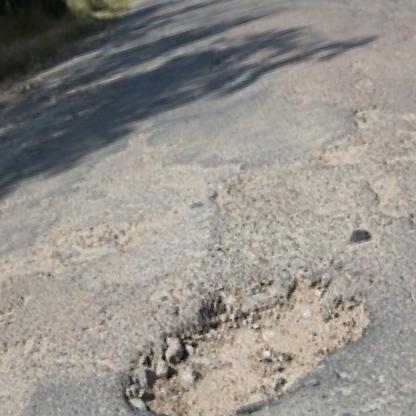pothole: (99, 245, 392, 416)
